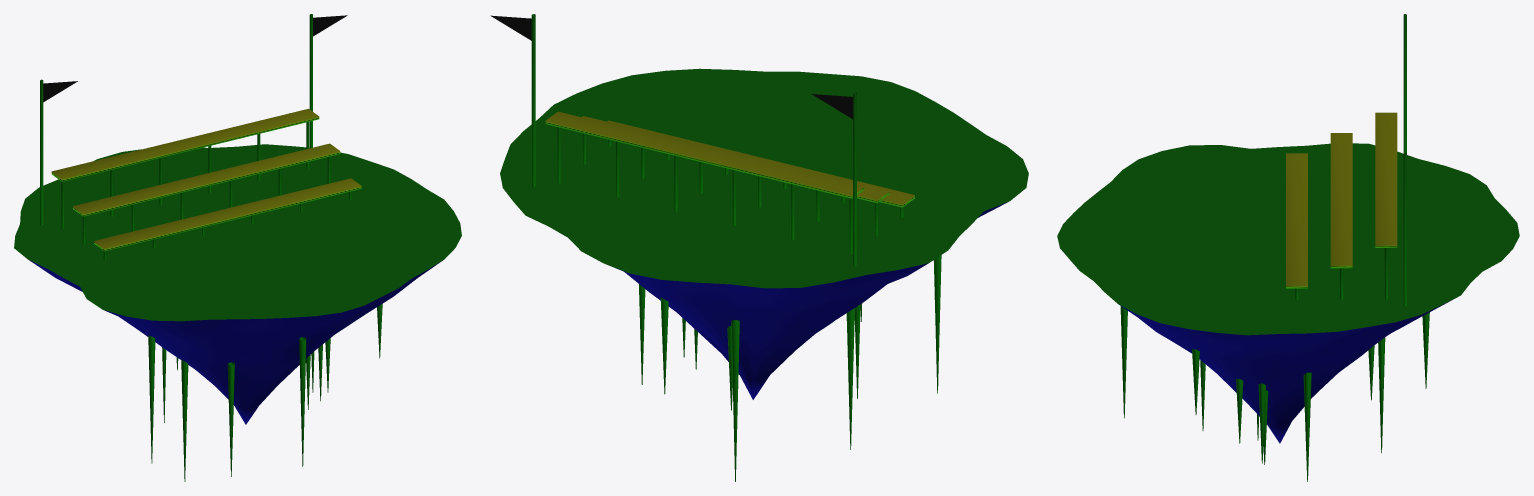
File: memory_stands.glb
3 renders of one model, left to right at view 1: azimuth 30°, elevation 25°; view 2: azimuth 150°, elevation 25°; view 3: azimuth 270°, elevation 25°, orthographic. The views are drawn at different scales.
Visible parts, largest first — view 1: memory_stands; view 2: memory_stands; view 3: memory_stands.
Part boxes in pixels (x1,y1,x2,y2): memory_stands: (14,14,461,481); memory_stands: (490,14,1028,481); memory_stands: (1057,14,1519,481).
Size of what is drawn, in the model's own units: 12.2 by 11.49 by 12.41.
